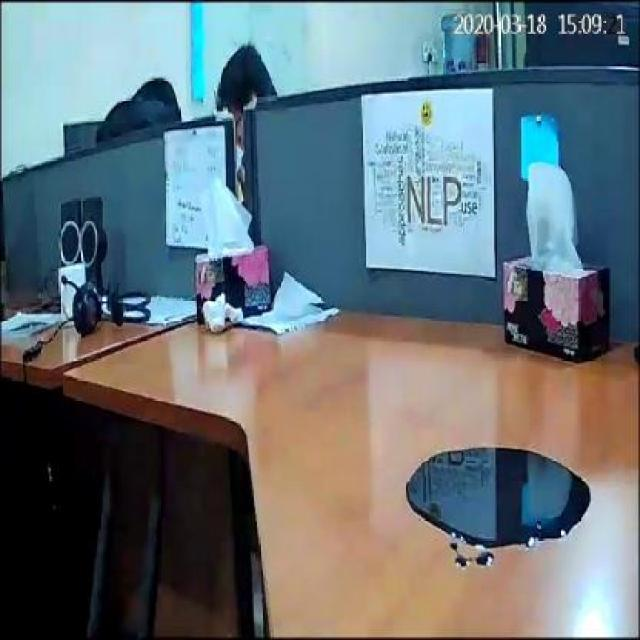spill: (402, 443, 590, 571)
